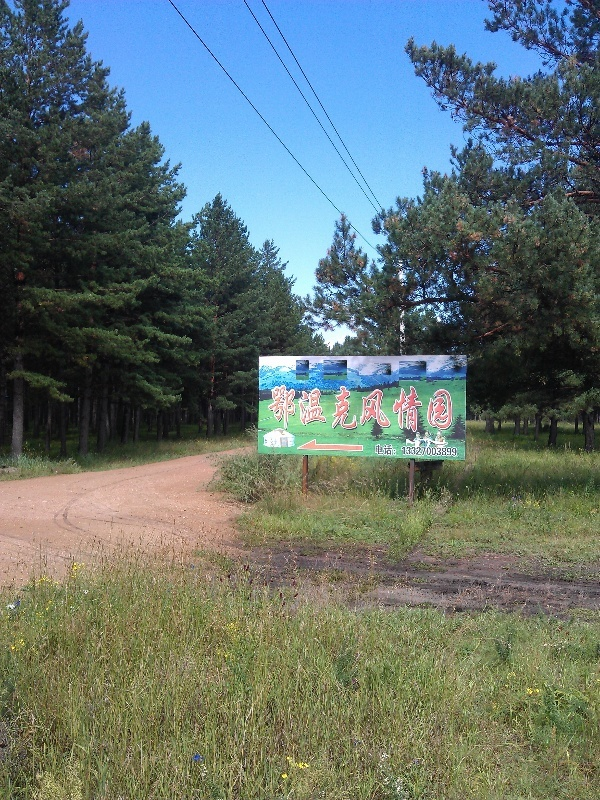text: (273, 384, 288, 435), (289, 384, 304, 435), (305, 384, 320, 435), (321, 384, 336, 435), (337, 384, 352, 435), (353, 384, 368, 435), (369, 384, 384, 435), (385, 384, 400, 435), (401, 384, 416, 435), (417, 384, 432, 435), (433, 384, 448, 435), (449, 384, 455, 435), (385, 443, 400, 458), (401, 443, 416, 458), (417, 443, 432, 458), (433, 443, 448, 458), (268, 384, 272, 435), (374, 443, 384, 458), (449, 443, 458, 458)
